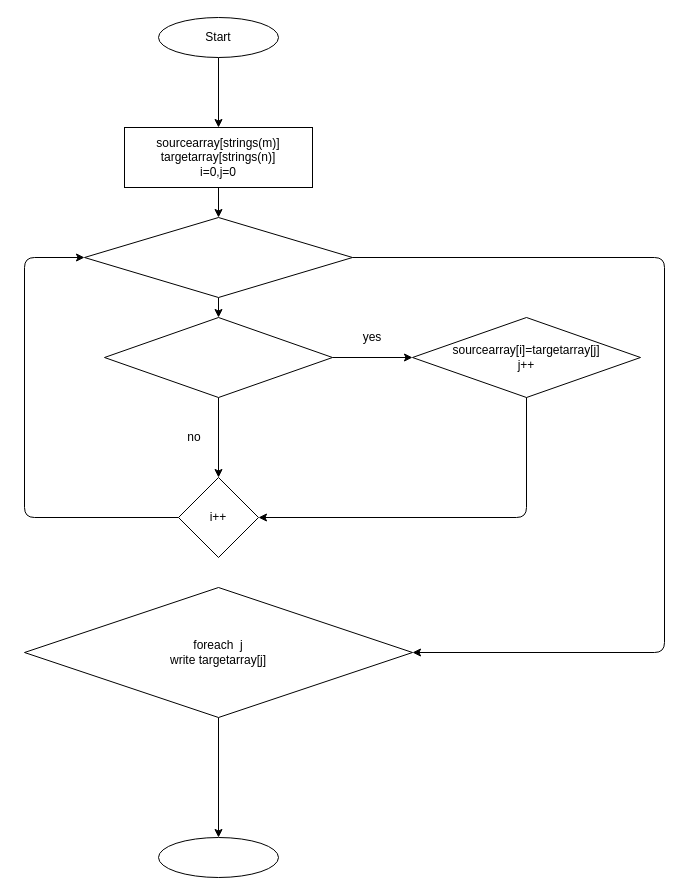
Image size: 690x895. Some labels were removed from this diagram. Here are the shapes that lost their labels. From the top down, the centre of each, then its label:
the point at 218,257: i<m
the point at 218,357: sourcearray[i].Lenght<=3
the point at 218,857: Finish
